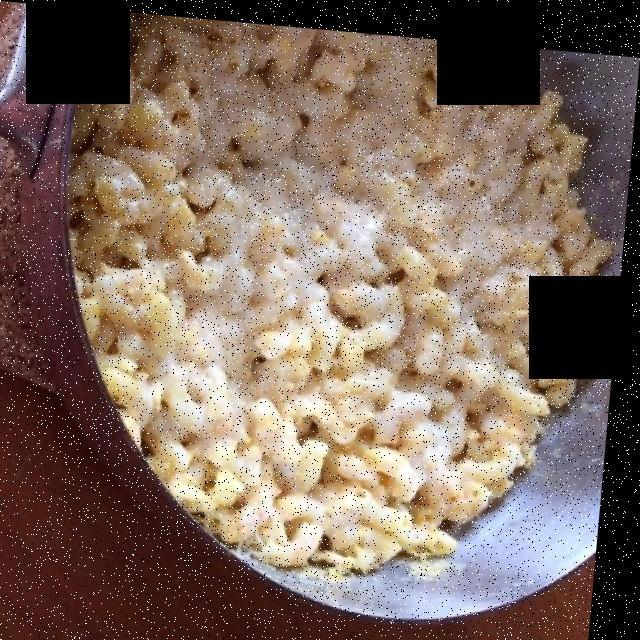pasta: (79, 25, 608, 561)
